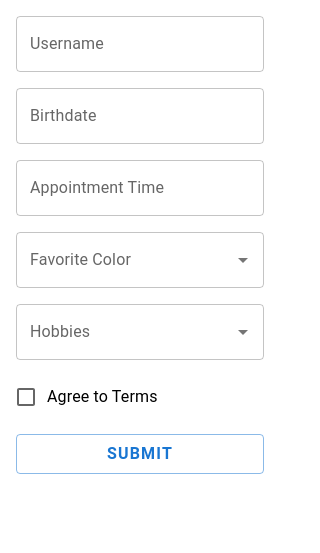
DynamicForm › should show validation error for required fields when not filled out
Click the submit button at (140, 454), box x1=16 y1=434 x2=264 y2=474
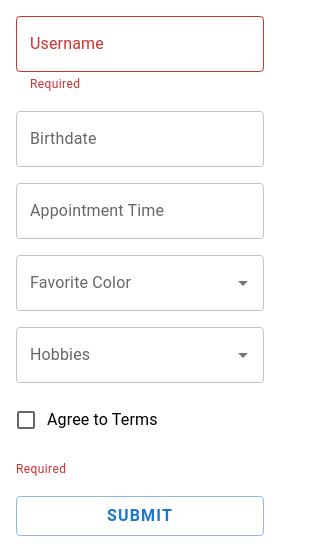
Now the text "Required" below "Username" is shown, box x1=30 y1=77 x2=80 y2=91
Now the 2nd text "Required" is shown, box x1=16 y1=462 x2=66 y2=476
